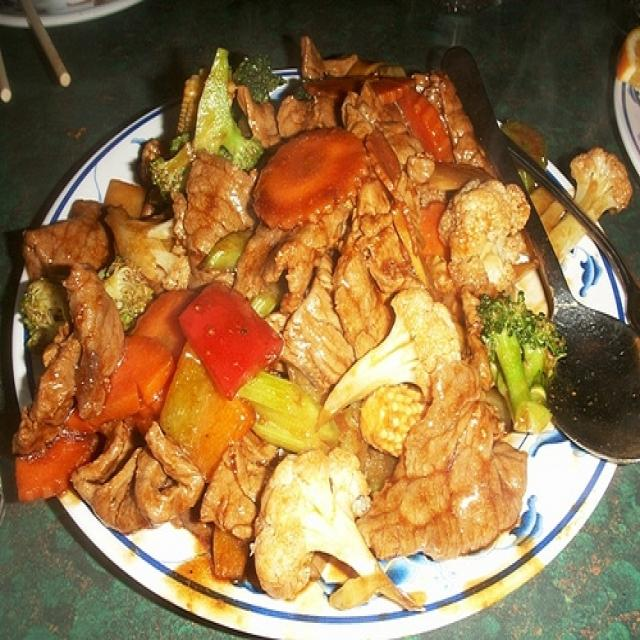牛肉菜式: (13, 43, 621, 626)
